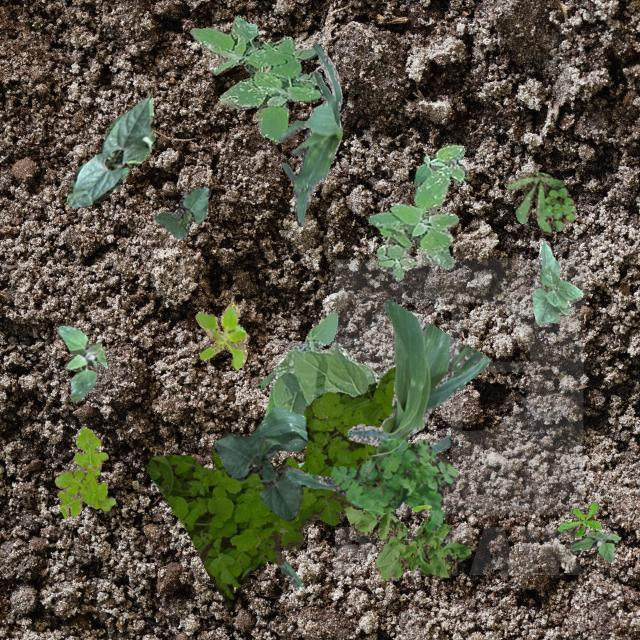crop: (284, 298, 490, 490), (254, 312, 394, 416), (278, 42, 342, 225), (248, 407, 306, 586), (66, 96, 154, 206), (212, 432, 302, 520), (530, 240, 582, 326), (152, 186, 210, 238)
weed: (144, 366, 394, 600), (188, 15, 320, 140), (368, 144, 467, 280), (330, 436, 456, 532), (338, 504, 470, 580), (54, 426, 114, 516), (504, 172, 574, 234), (56, 324, 106, 400), (194, 301, 247, 368), (570, 530, 618, 562), (558, 501, 600, 536), (292, 46, 318, 86)
